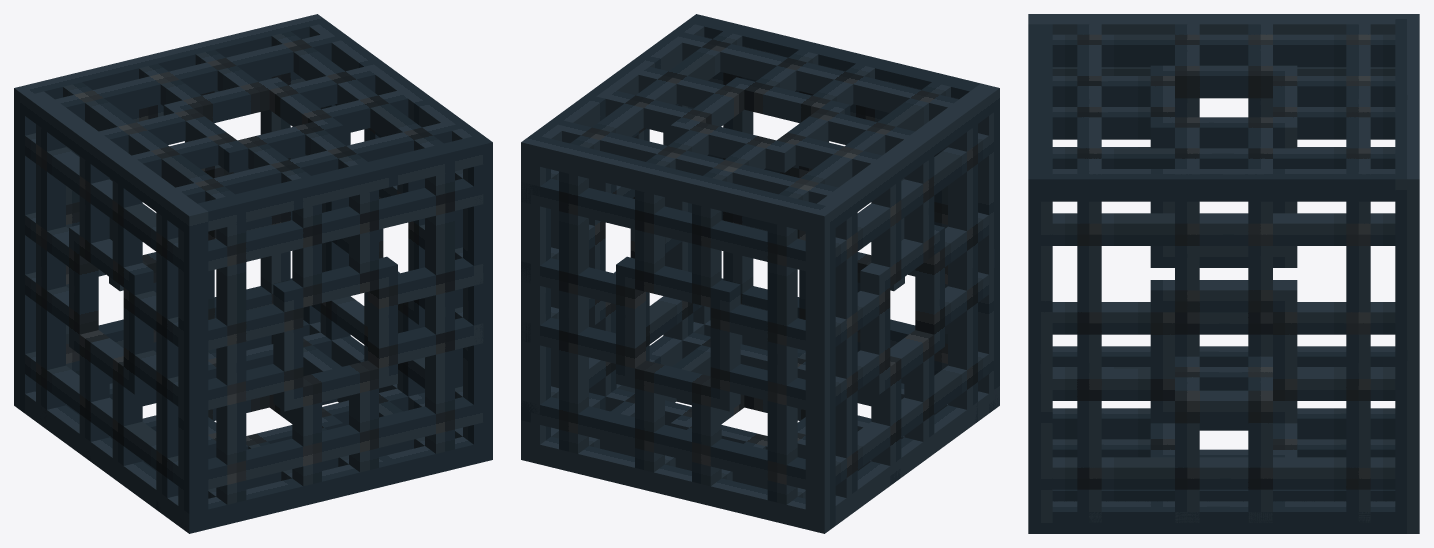
File: block_mob_spawner_cage_1.gltf
3 renders of one model, left to right at view 1: azimuth 30°, elevation 25°; view 2: azimuth 150°, elevation 25°; view 3: azimuth 270°, elevation 25°, orthographic. The views are drawn at different scales.
Visible parts, largest first — view 1: Box7 (×4), Box3 (×6), Box6 (×6), Box19 (×6), Box8 (×4), Box2 (×2), Box1 (×2), Box9 (×3), Box12 (×5), Box18 (×5), Box16 (×3), Box4 (×3) (+8 smaller); view 2: Box1 (×4), Box6 (×6), Box19 (×6), Box3 (×6), Box8 (×3), Box2 (×2), Box9 (×5), Box7 (×2), Box16 (×5), Box12 (×3), Box4 (×3), Box5 (×3) (+8 smaller); view 3: Box8 (×4), Box19 (×4), Box20 (×2), Box1 (×2), Box7 (×2), Box6 (×2), Box3 (×2), Box2 (×2), Box13 (×3), Box11 (×3), Box9 (×4), Box15 (×3) (+8 smaller).
Boxes of the visible parts, x1,y1,x2,y2 form: Box7 (×4): (178,134,492,533); Box3 (×6): (36,30,492,489); Box6 (×6): (124,72,492,511); Box19 (×6): (25,31,462,485); Box8 (×4): (25,82,246,504); Box2 (×2): (25,91,208,533); Box1 (×2): (14,14,327,413); Box9 (×3): (69,77,397,411); Box12 (×5): (123,117,424,446); Box18 (×5): (112,86,492,465); Box16 (×3): (79,63,492,461); Box4 (×3): (79,108,303,409); Box1 (×4): (521,134,835,533); Box6 (×6): (521,30,977,422); Box19 (×6): (551,31,988,485); Box3 (×6): (521,120,947,497); Box8 (×3): (767,82,988,504); Box2 (×2): (817,83,999,525); Box9 (×5): (589,117,890,449); Box7 (×2): (686,14,999,413); Box16 (×5): (522,86,901,485); Box12 (×3): (616,77,944,353); Box4 (×3): (710,132,901,409); Box5 (×3): (710,108,934,350); Box8 (×4): (1052,34,1395,390); Box19 (×4): (1052,148,1395,501); Box20 (×2): (1052,169,1395,533); Box1 (×2): (1395,14,1419,533); Box7 (×2): (1028,24,1052,533); Box6 (×2): (1077,24,1101,533); Box3 (×2): (1346,24,1370,533); Box2 (×2): (1028,14,1395,366); Box13 (×3): (1052,76,1150,439); Box11 (×3): (1297,76,1395,439); Box9 (×4): (1273,65,1297,457); Box15 (×3): (1052,107,1150,457).
Bounding box in the file's own units: 1 × 1 × 1.
1 material, 1 textured.
